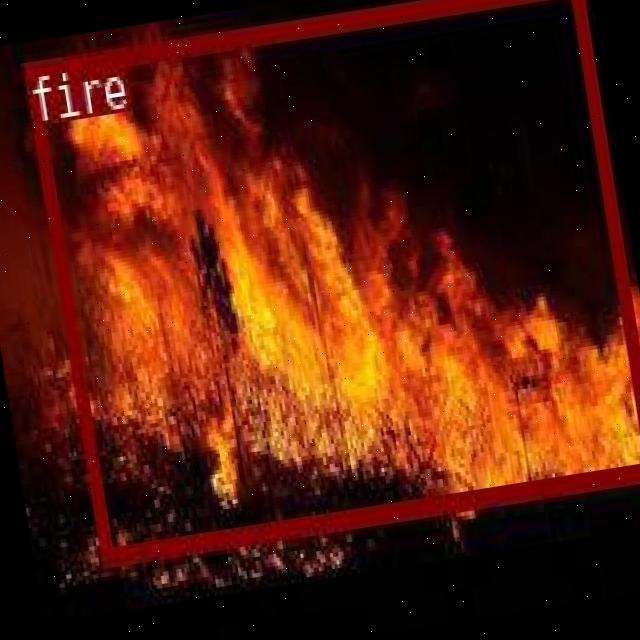fire: (20, 0, 640, 562)
